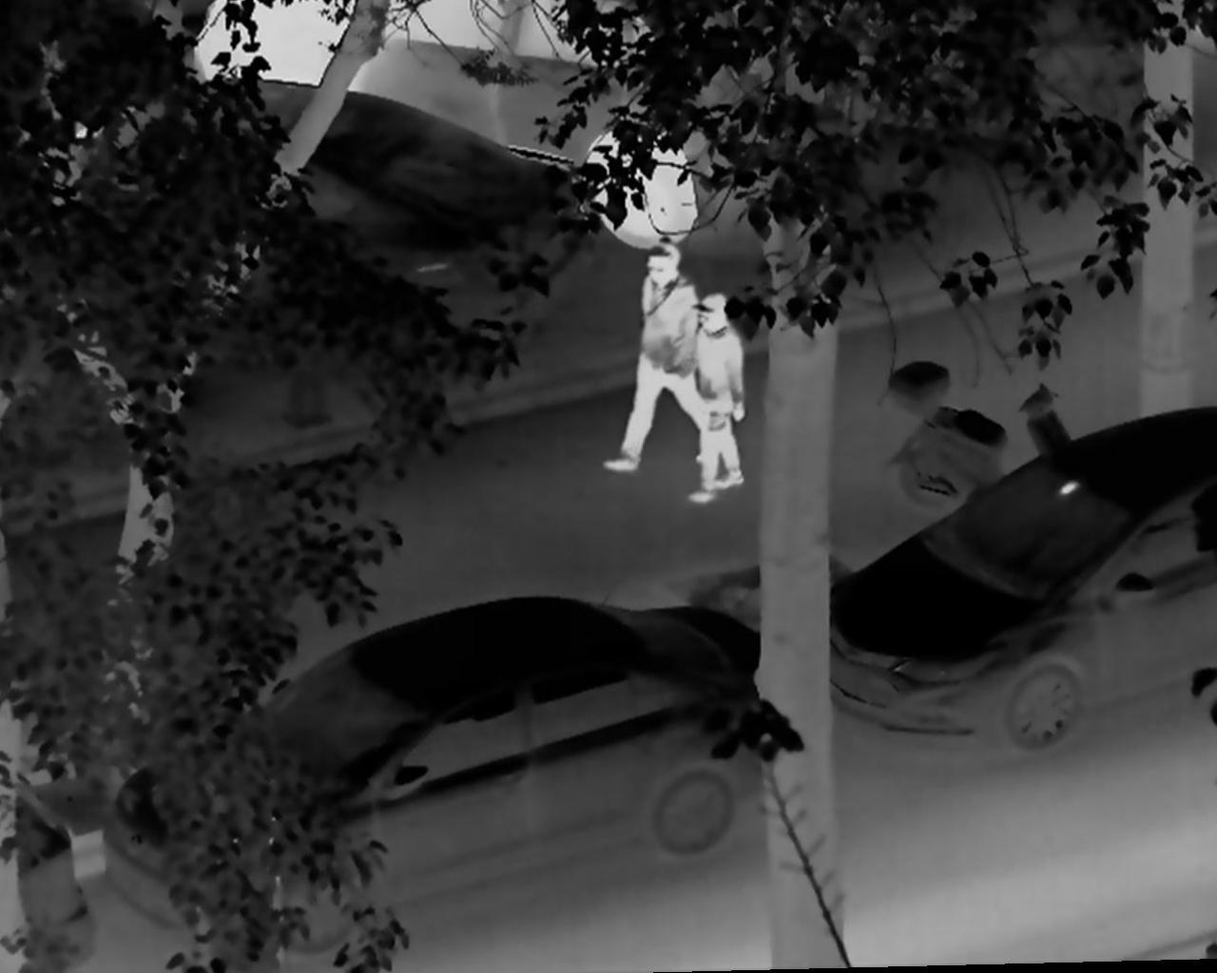person: (605, 235, 723, 481), (685, 293, 754, 506)
